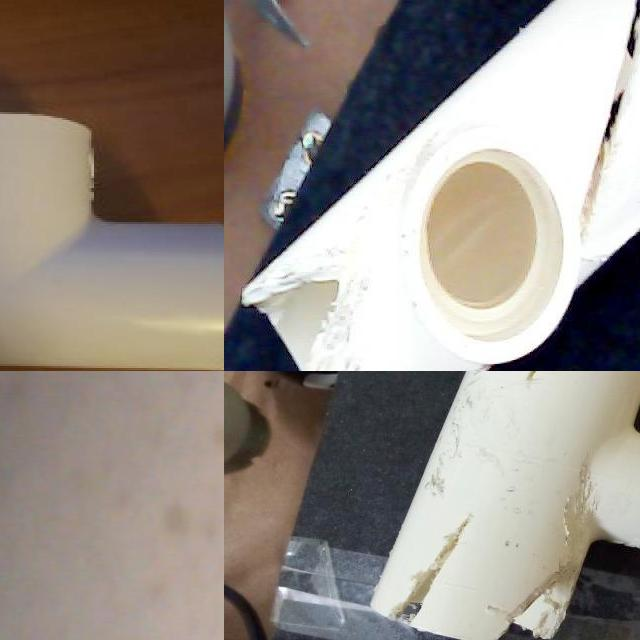Defective: (573, 0, 640, 257), (514, 466, 599, 640), (246, 271, 389, 371), (393, 515, 473, 625)
T Joint: (243, 0, 640, 371), (369, 371, 640, 640), (0, 114, 224, 371)
